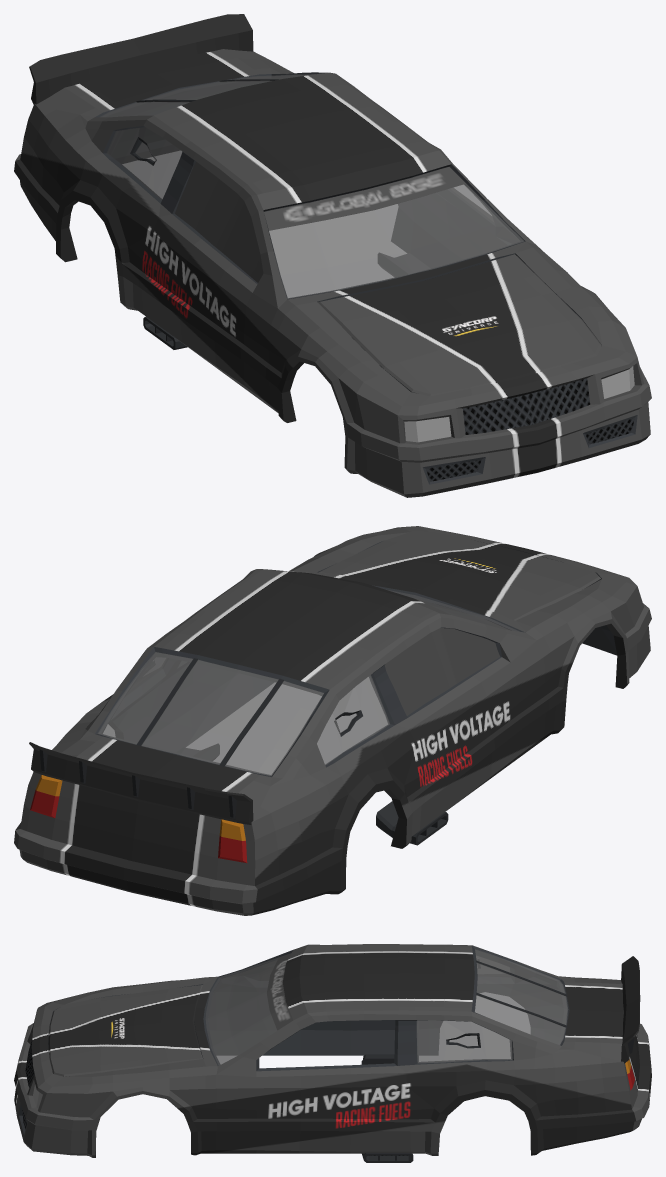
The model's file is SM_Veh_Stock_Car_01_Body_03.fbx.
3 views of the same model, one above another, from view 1: azimuth 30°, elevation 25°; view 2: azimuth 150°, elevation 25°; view 3: azimuth 270°, elevation 25° (orthographic). The views are drawn at different scales.
Parts seen in each view (by area): view 1: SM_Veh_Stock_Car_01_Body_03; view 2: SM_Veh_Stock_Car_01_Body_03; view 3: SM_Veh_Stock_Car_01_Body_03.
Part boxes in pixels (x1,y1,x2,y2): SM_Veh_Stock_Car_01_Body_03: (14, 14, 651, 497); SM_Veh_Stock_Car_01_Body_03: (14, 526, 651, 915); SM_Veh_Stock_Car_01_Body_03: (14, 944, 651, 1162).
Size of the model in its own units: 218 by 130 by 541.
